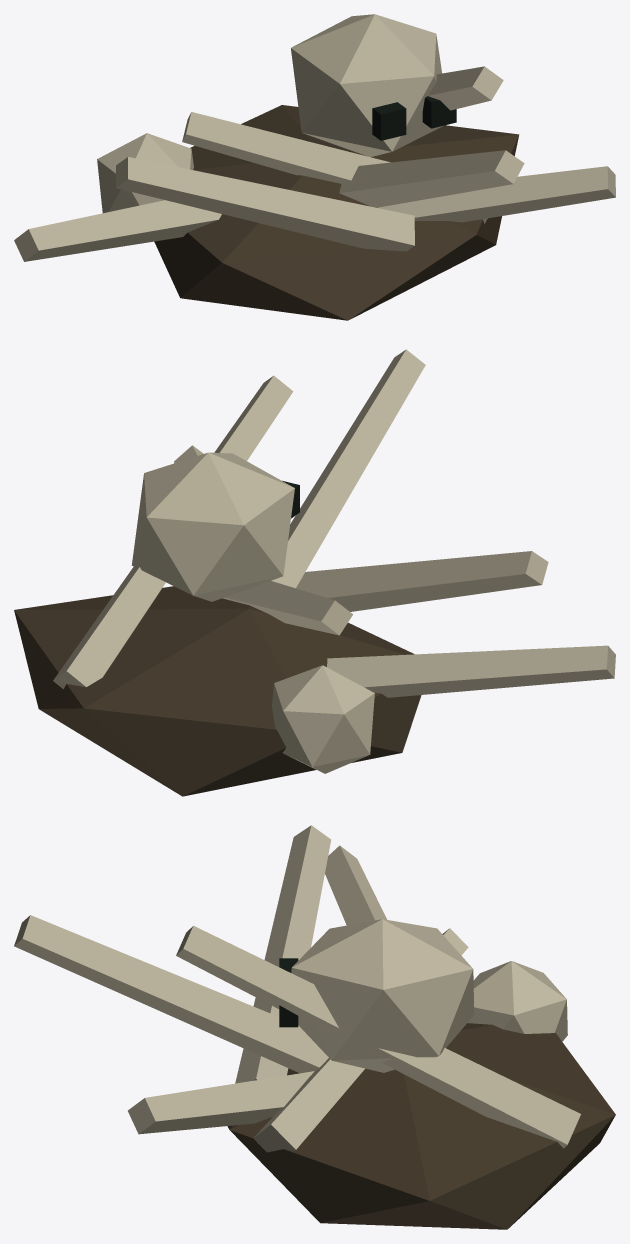
The model's file is rock_bones.glb.
3 renders of one model, top to bottom at view 1: azimuth 30°, elevation 25°; view 2: azimuth 150°, elevation 25°; view 3: azimuth 270°, elevation 25°, orthographic. The views are drawn at different scales.
Parts seen in each view (by area): view 1: rock_bones; view 2: rock_bones; view 3: rock_bones.
Part boxes in pixels (x1,y1,x2,y2): rock_bones: (14,14,615,320); rock_bones: (14,349,615,796); rock_bones: (14,825,615,1229).
Size of the model in its own units: 1.07 by 0.5252 by 0.9469.
